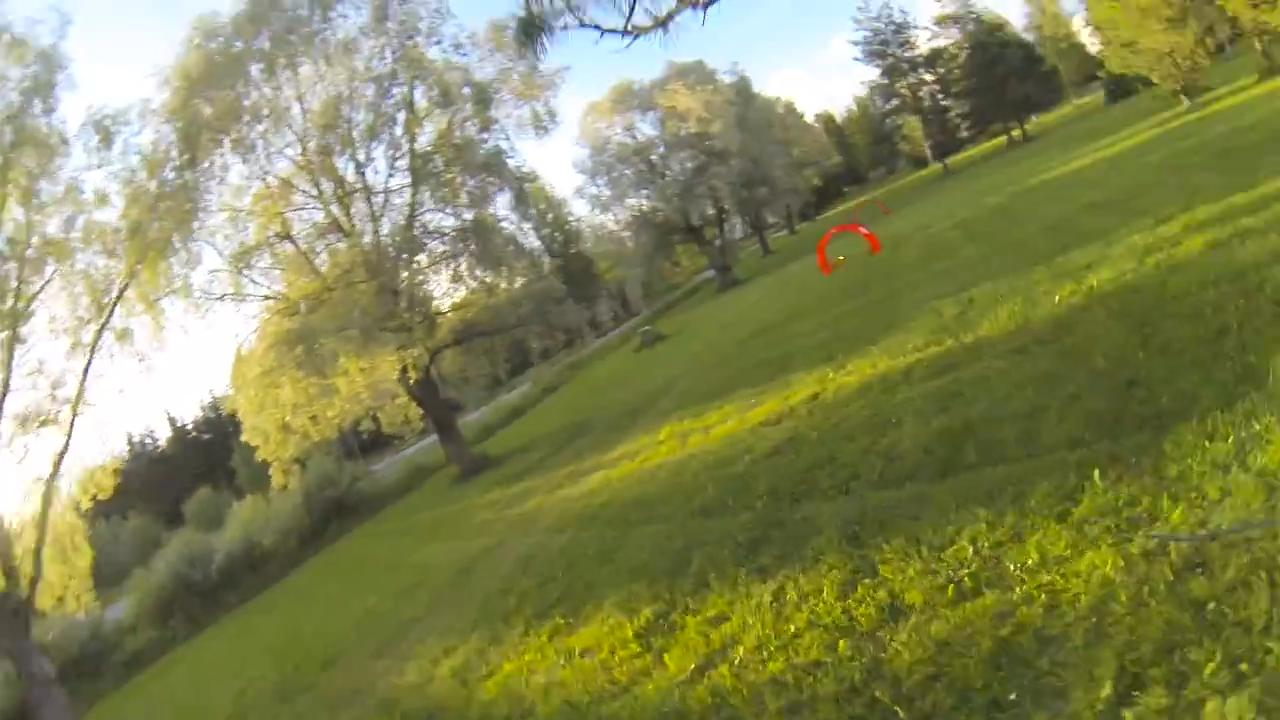gate: (811, 222, 883, 282)
